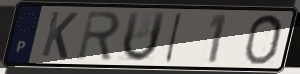1: (207, 13, 229, 65)
I: (162, 11, 185, 64)
K: (39, 10, 80, 61)
O: (242, 13, 285, 67)
R: (74, 10, 122, 62)
U: (120, 11, 168, 65)
